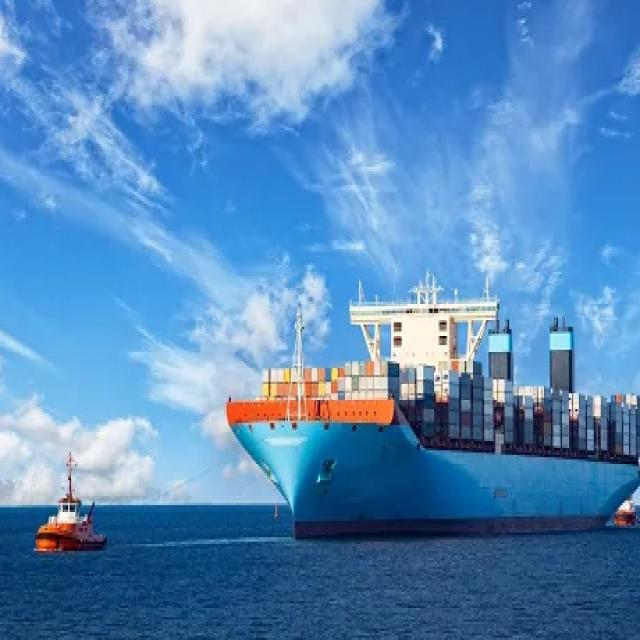cargoship: (230, 214, 640, 569), (24, 466, 109, 560)
